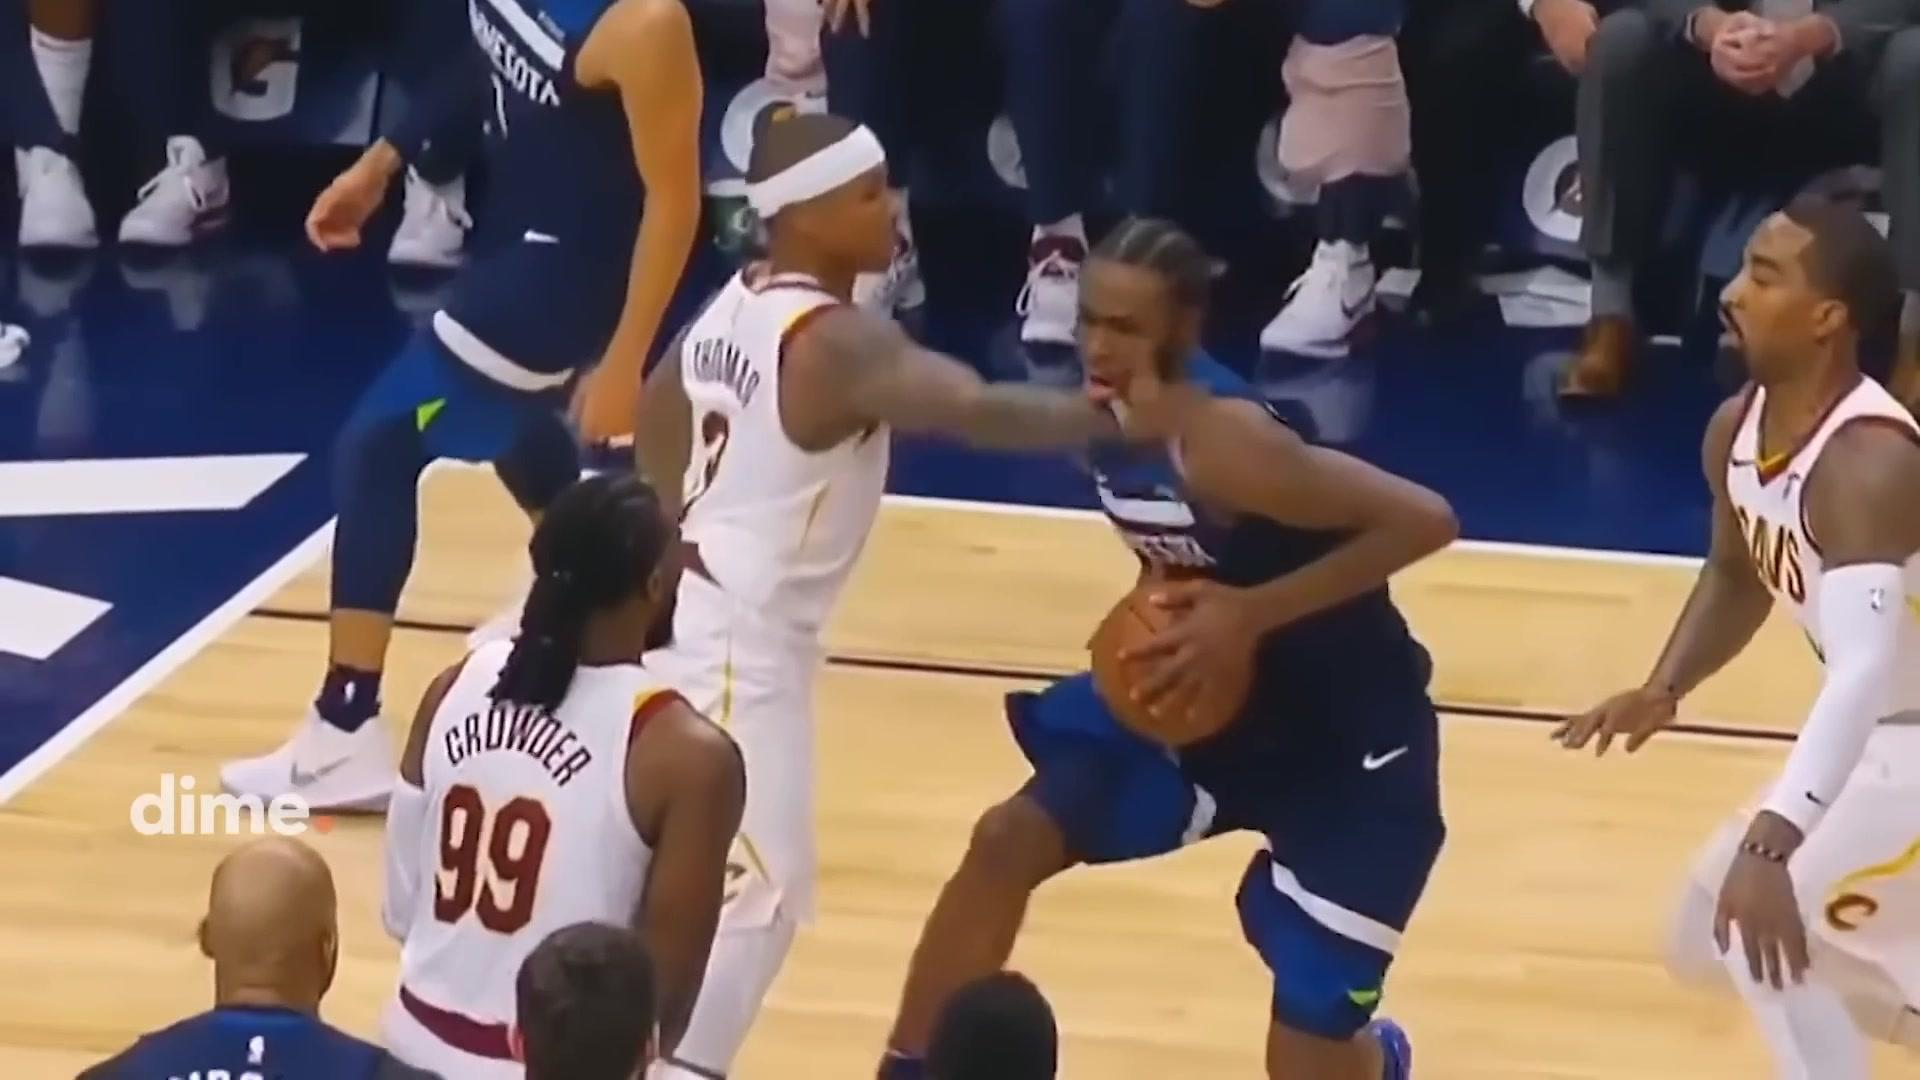no_foul: (629, 94, 1461, 1067)
